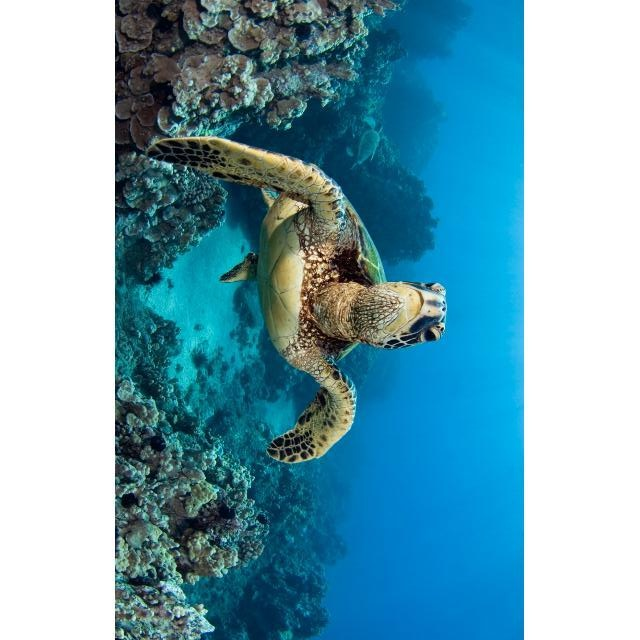turtle: (147, 138, 447, 466)
